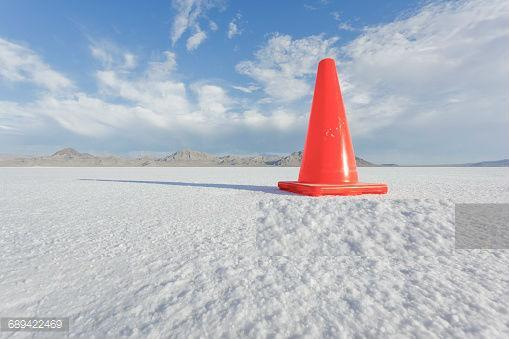Cone: (276, 57, 392, 198)
